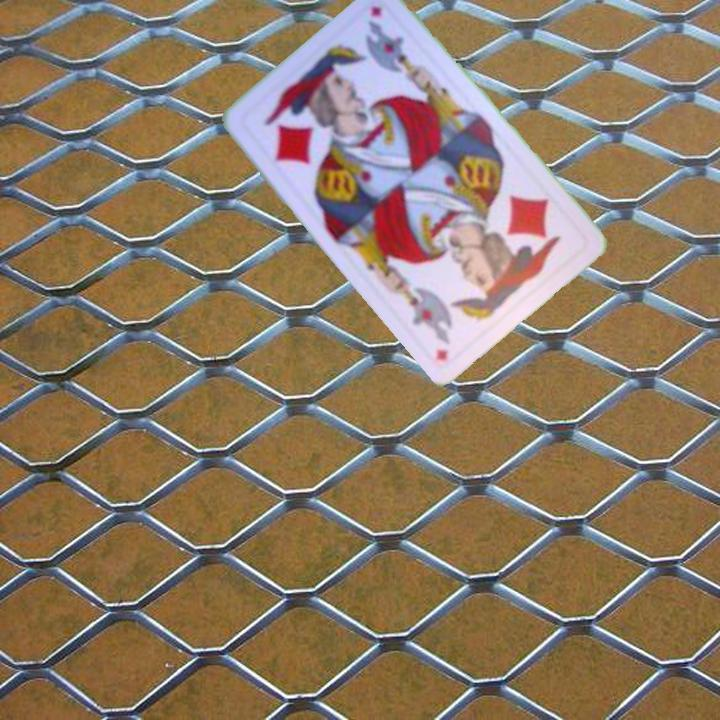d_j.png: (236, 59, 366, 186), (460, 179, 590, 306)
